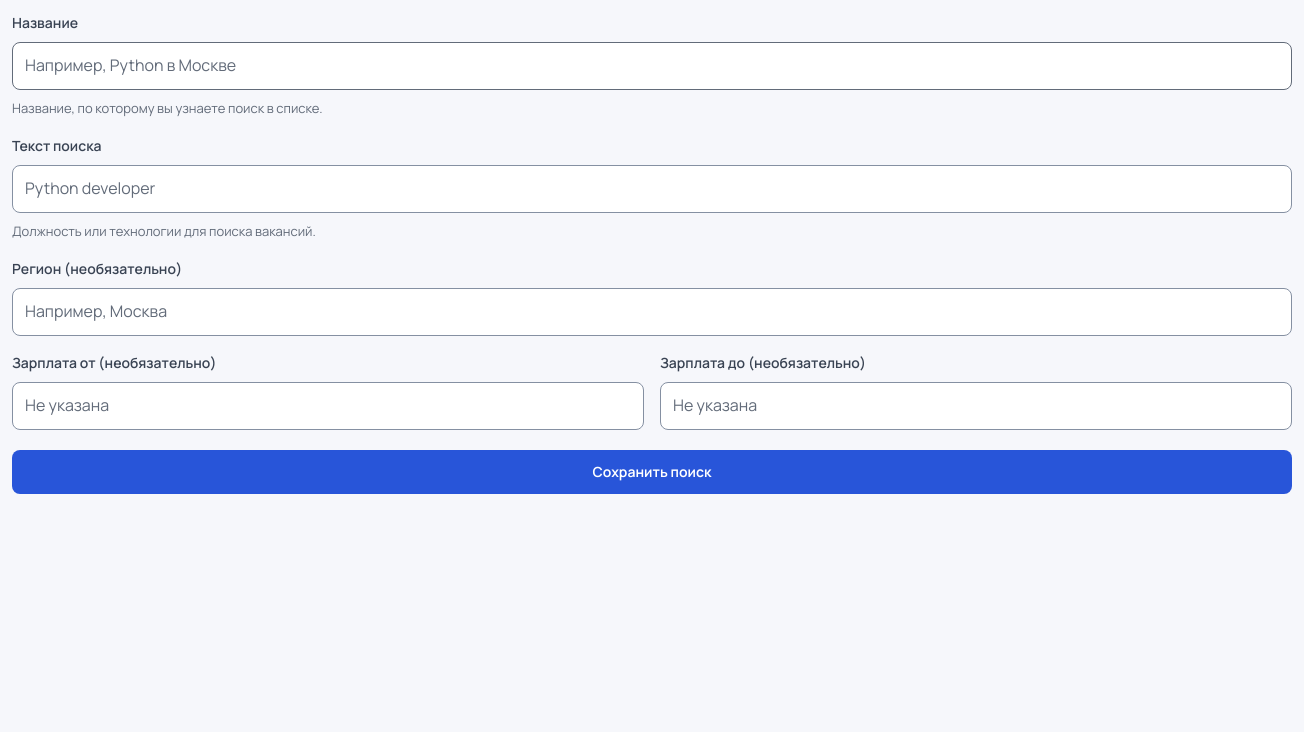
SavedSearchForm › rejects invalid salary bounds 200 / 100
This screenshot has width=1304, height=732.
Type "Python" into the field named "name" at {"x": 652, "y": 66}, box [12,42,1292,90]
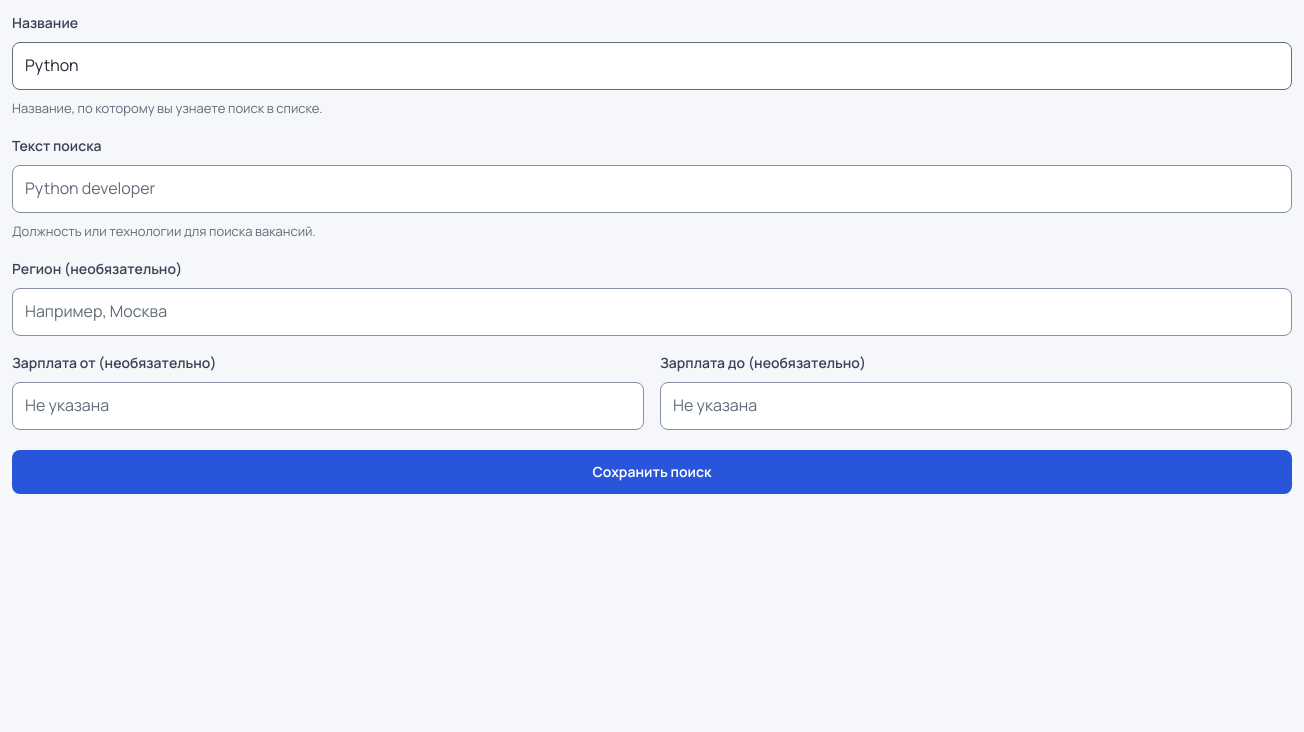
Type "python" into the field named "text" at {"x": 652, "y": 189}, box [12,165,1292,213]
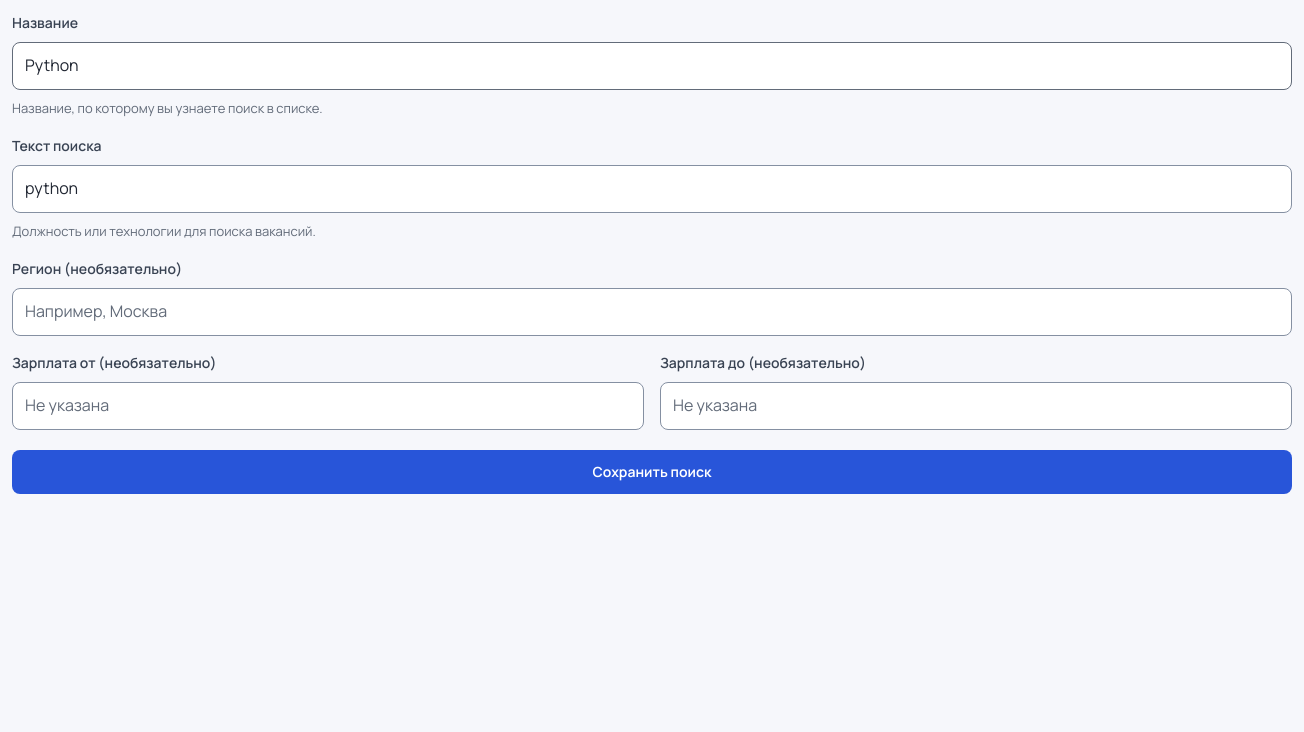
Type "200" into the number field named "min_salary" at {"x": 328, "y": 406}, box [12,382,644,430]
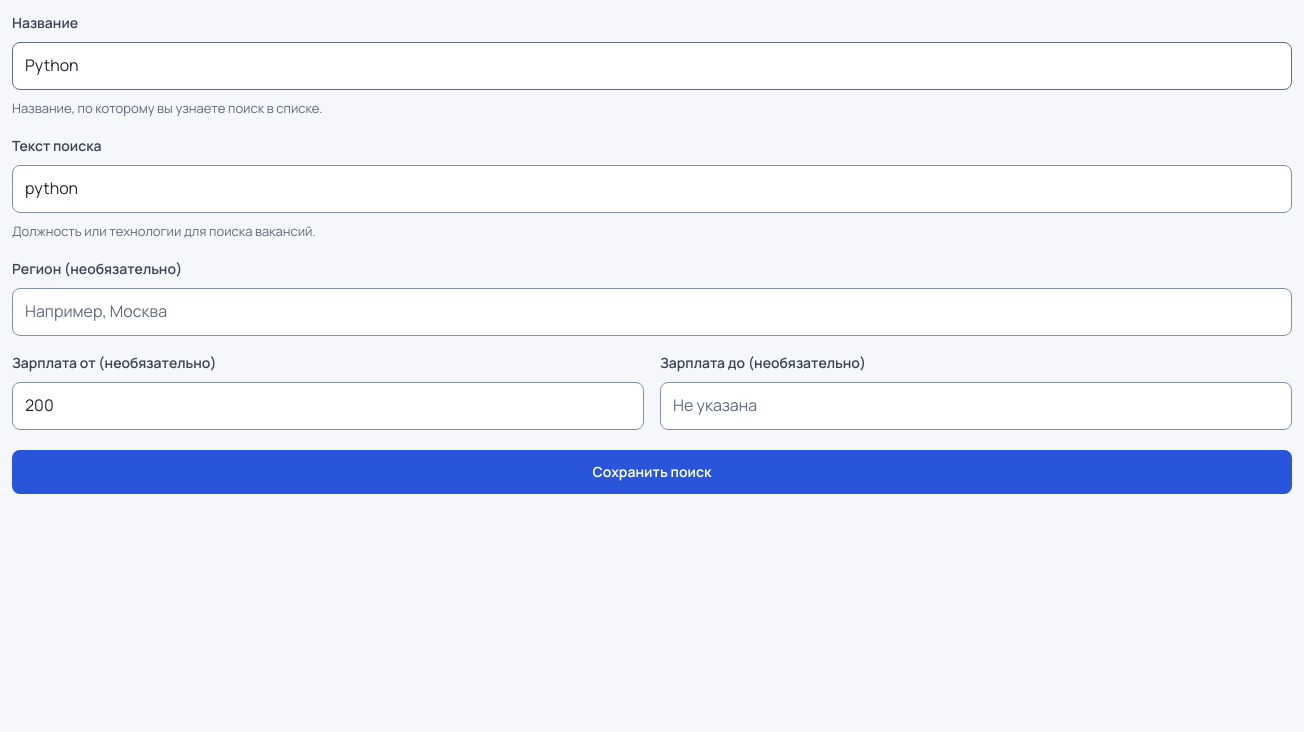
Type "100" into the number field named "max_salary" at {"x": 976, "y": 406}, box [660,382,1292,430]
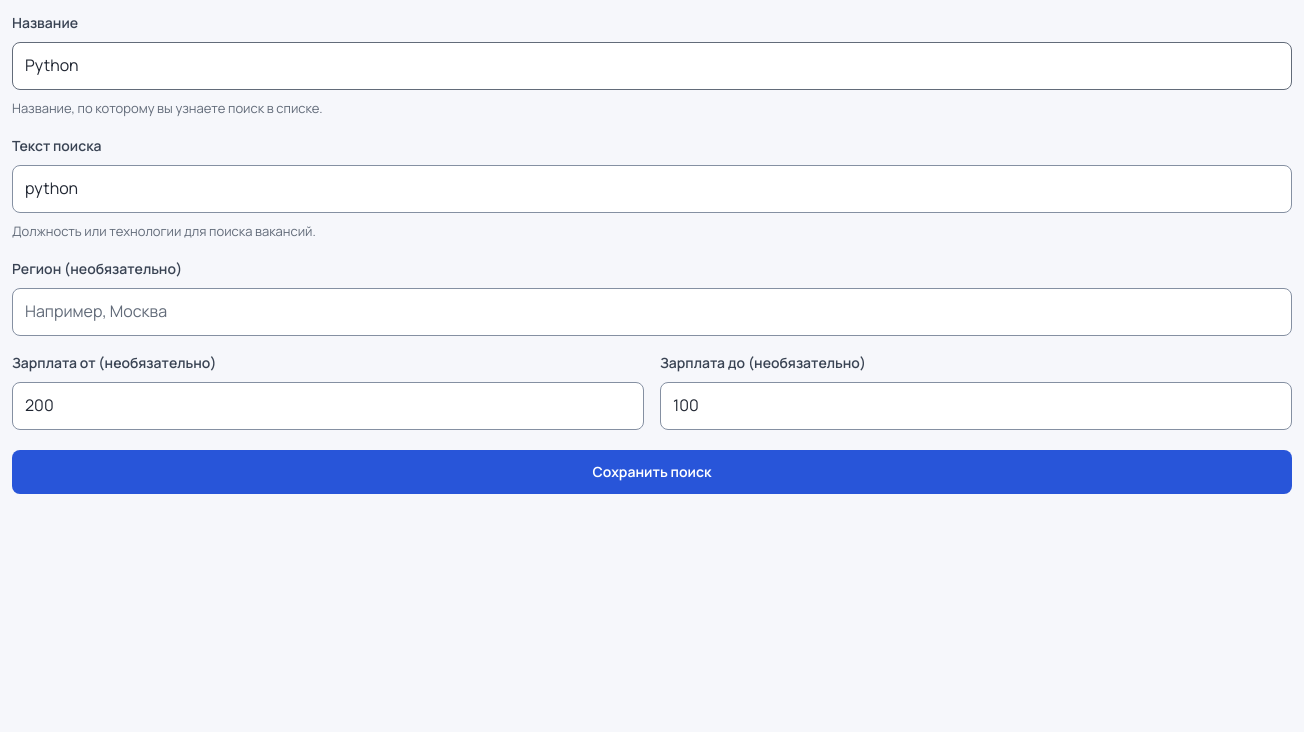
Submit the form
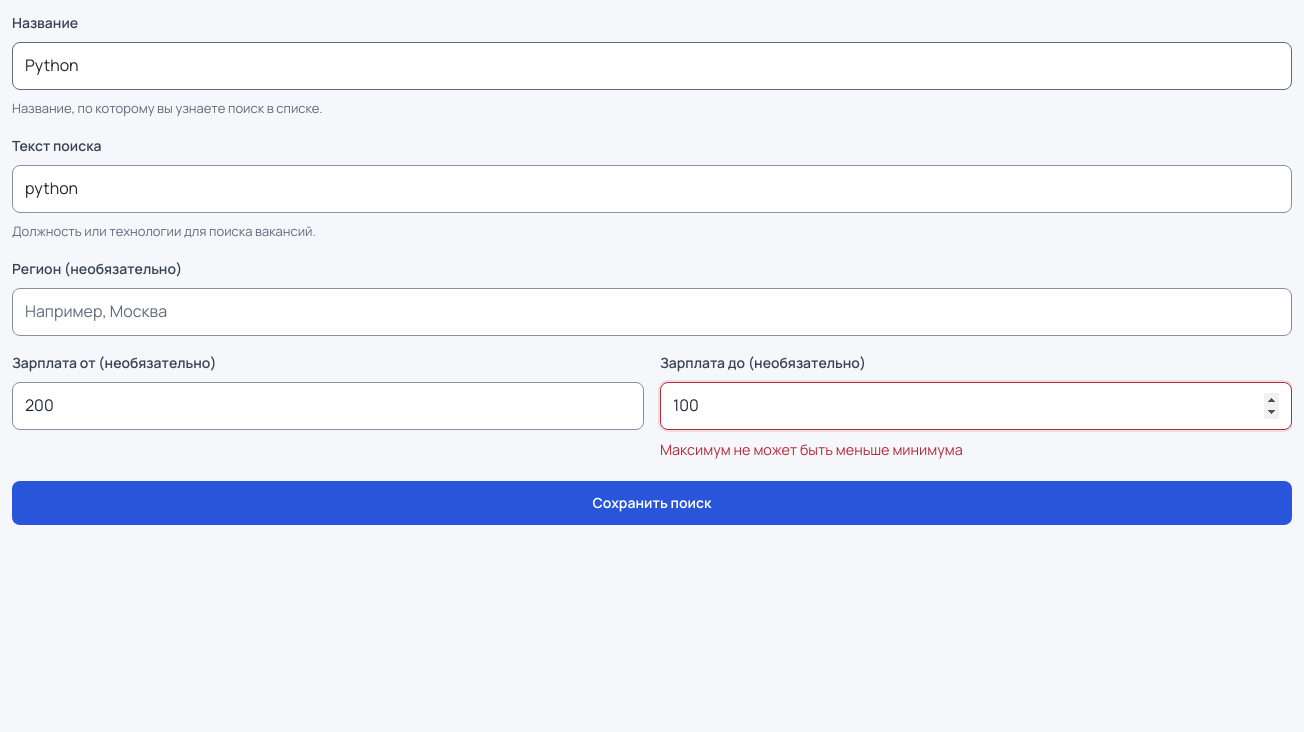
Now the form shows "Максимум не может быть меньше минимума", box [660,440,963,458]
